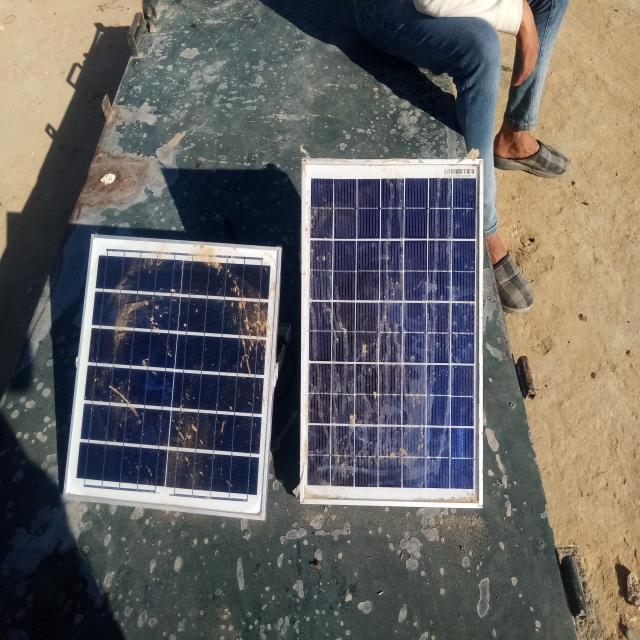faulty: (302, 158, 483, 509), (65, 234, 285, 517)
